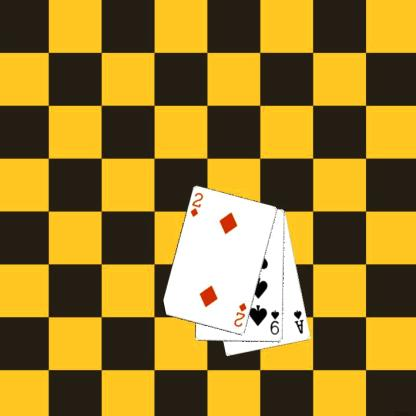2D: (231, 300, 248, 328), (188, 190, 204, 218)
9S: (268, 308, 280, 336)
AS: (291, 308, 305, 335)
